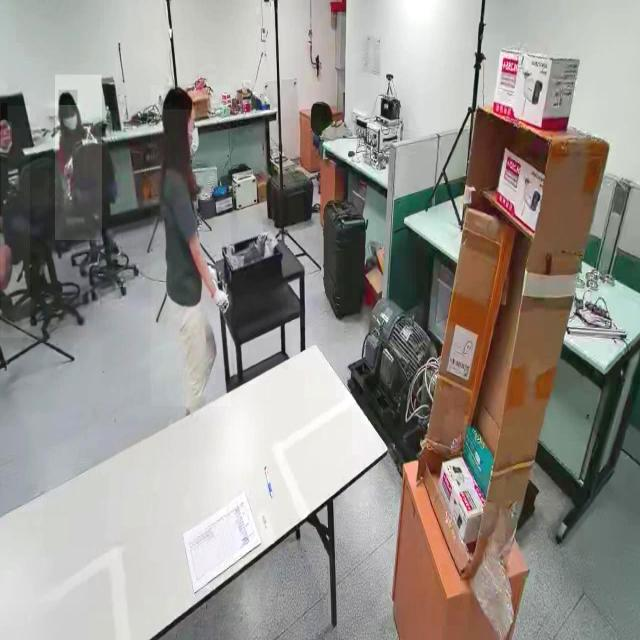face_mask: (186, 111, 200, 156), (62, 106, 79, 137)
face_nomask: (0, 121, 12, 148)
hand_glove: (210, 284, 229, 320), (205, 260, 219, 286)
head_nohelmet: (163, 84, 195, 110), (58, 90, 78, 106), (1, 103, 8, 121)
person: (150, 85, 231, 407), (54, 75, 102, 241), (0, 105, 30, 338)
